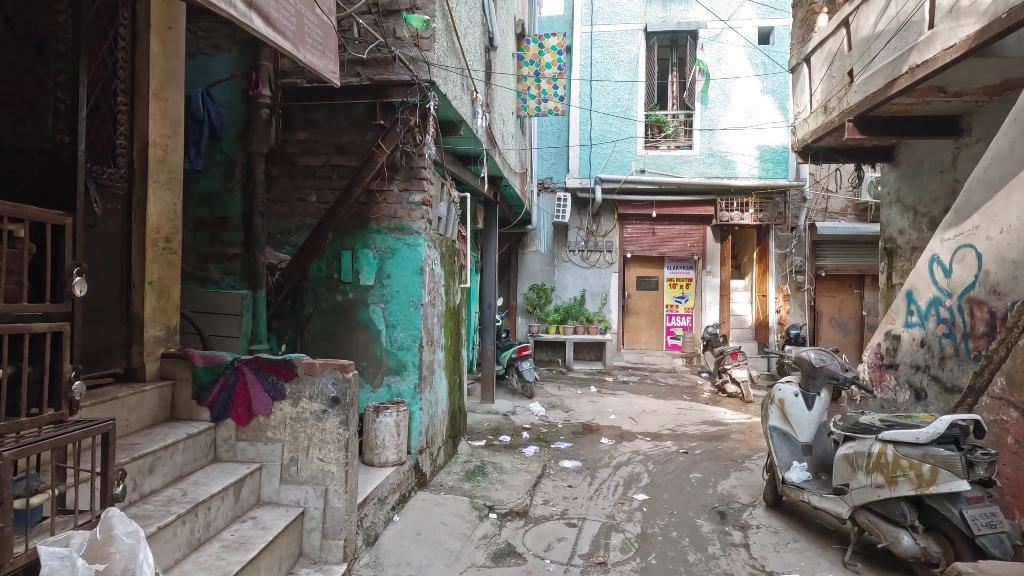garbage: (631, 489, 653, 512), (553, 456, 585, 471), (529, 396, 547, 421), (552, 436, 570, 454), (601, 436, 616, 449)
